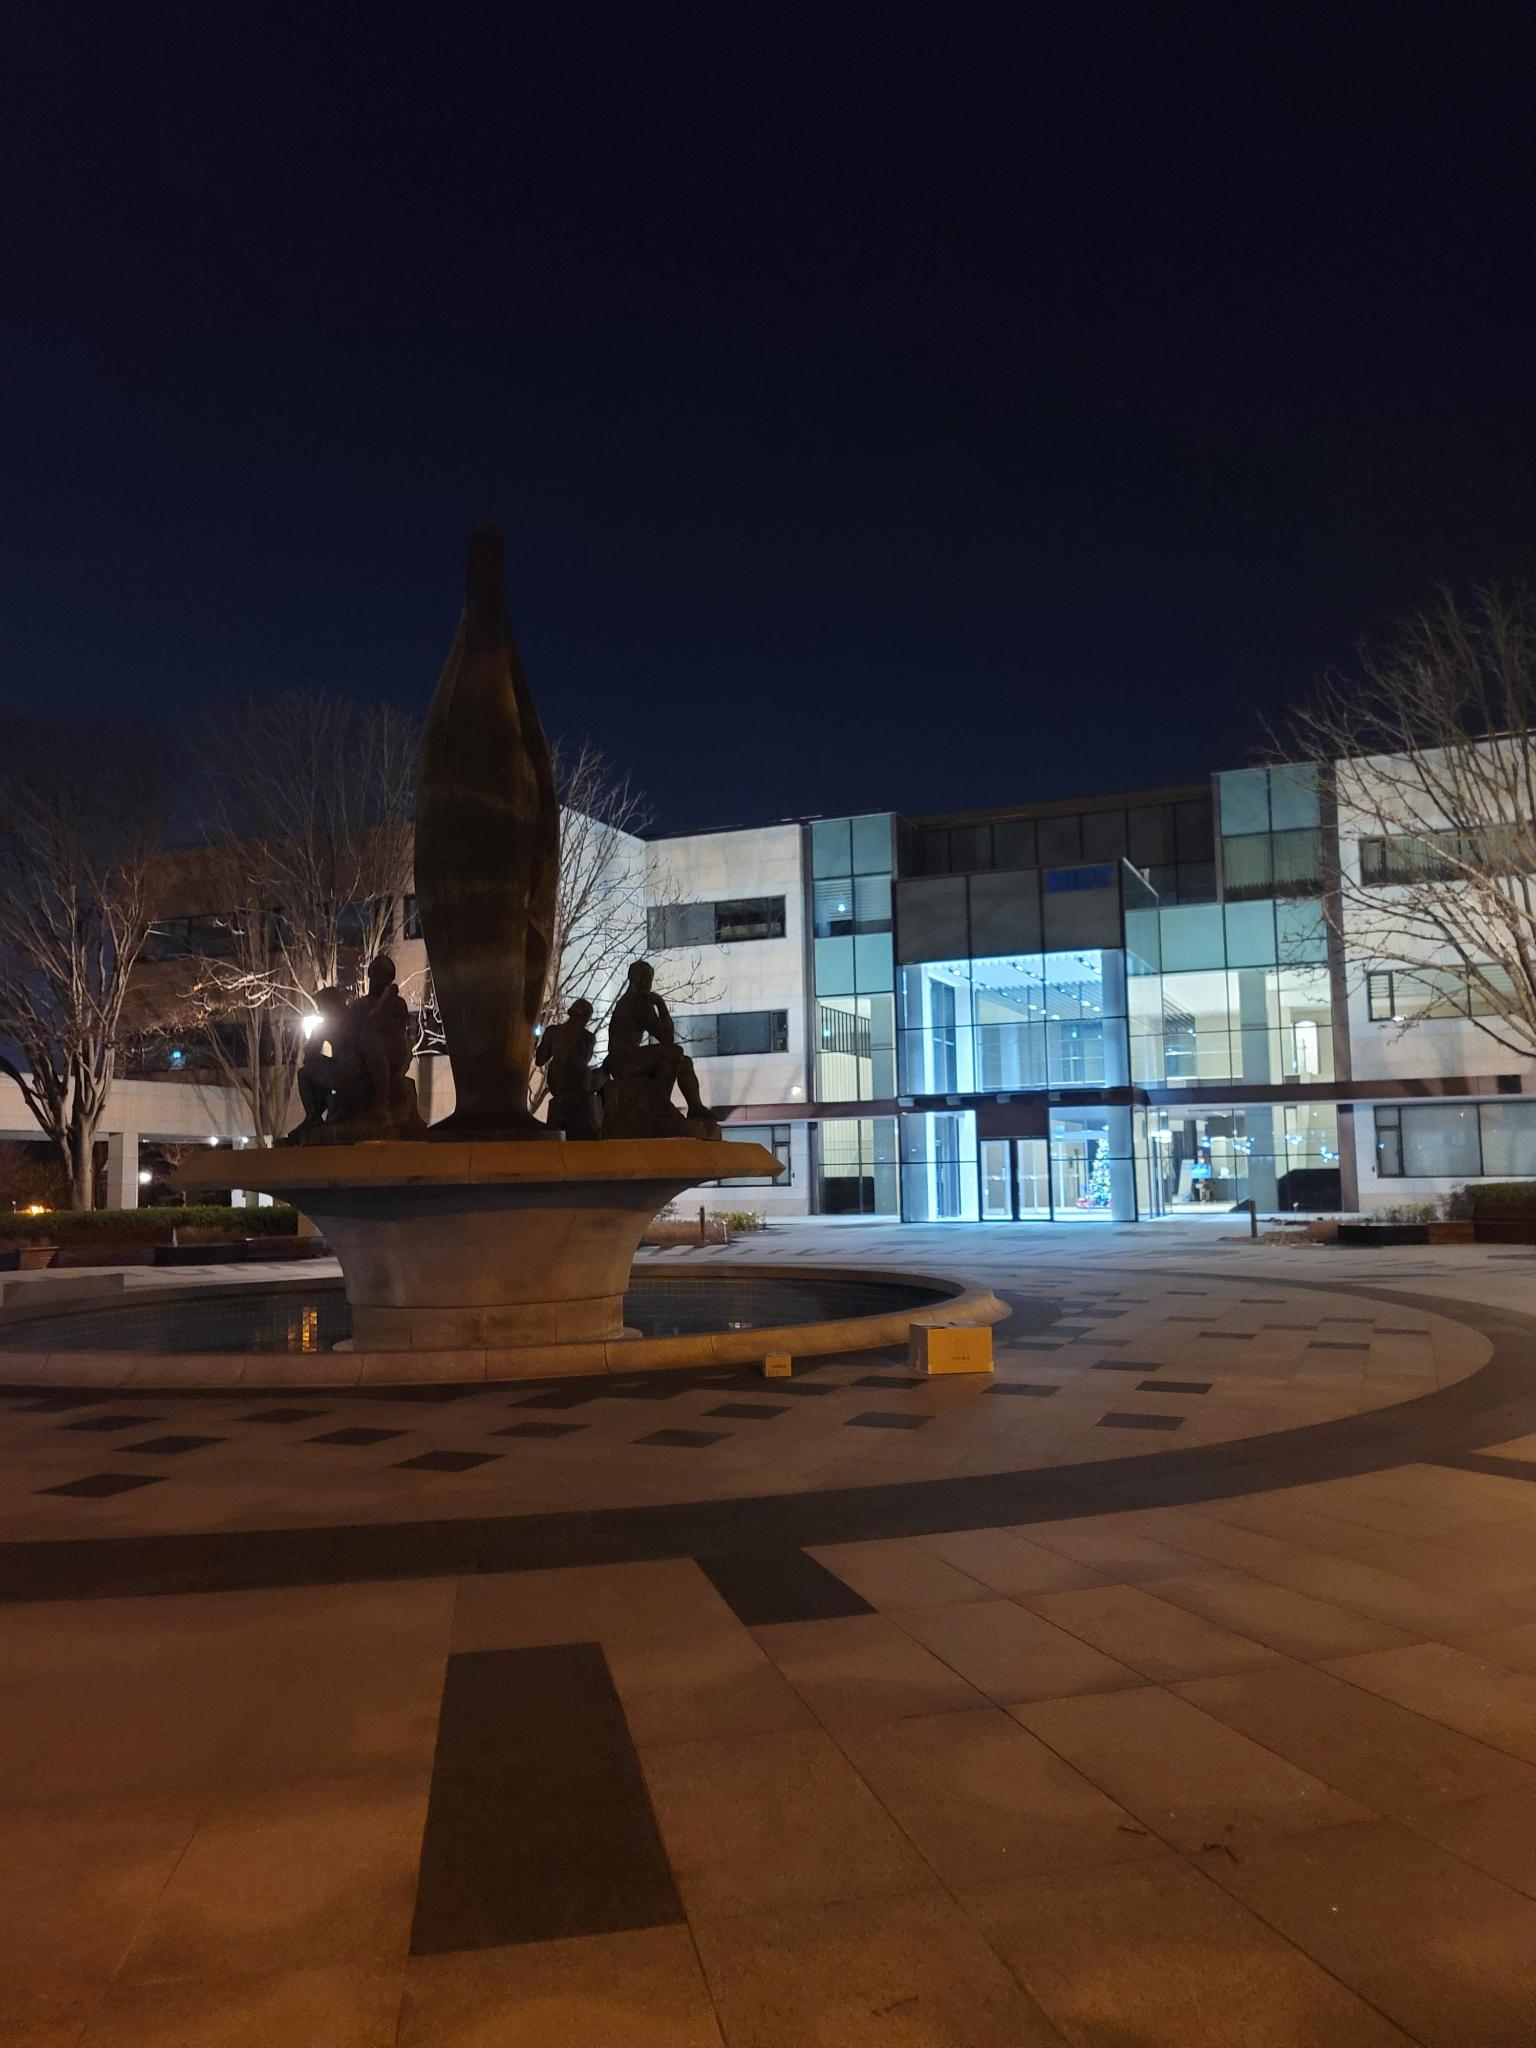Box: (905, 1326, 1008, 1382), (753, 1343, 797, 1374)
